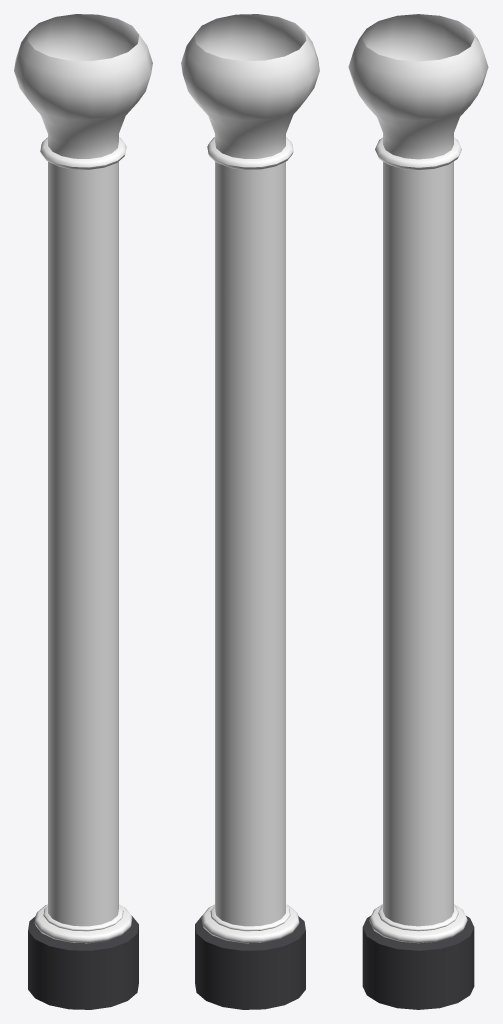
Rendered from SM_Buildings_Column_1x3_01.fbx.
3 renders of one model, left to right at view 1: azimuth 30°, elevation 25°; view 2: azimuth 150°, elevation 25°; view 3: azimuth 270°, elevation 25°, orthographic.
Parts seen in each view (by area): view 1: SM_Buildings_Column_1x3_01; view 2: SM_Buildings_Column_1x3_01; view 3: SM_Buildings_Column_1x3_01.
Part boxes in pixels (x1,y1,x2,y2): SM_Buildings_Column_1x3_01: (14,14,152,1009); SM_Buildings_Column_1x3_01: (181,14,319,1009); SM_Buildings_Column_1x3_01: (348,14,488,1009).
Bounding box in the file's own units: 40.16 × 300 × 40.16.
Materials: 1 (1 with a texture image).
